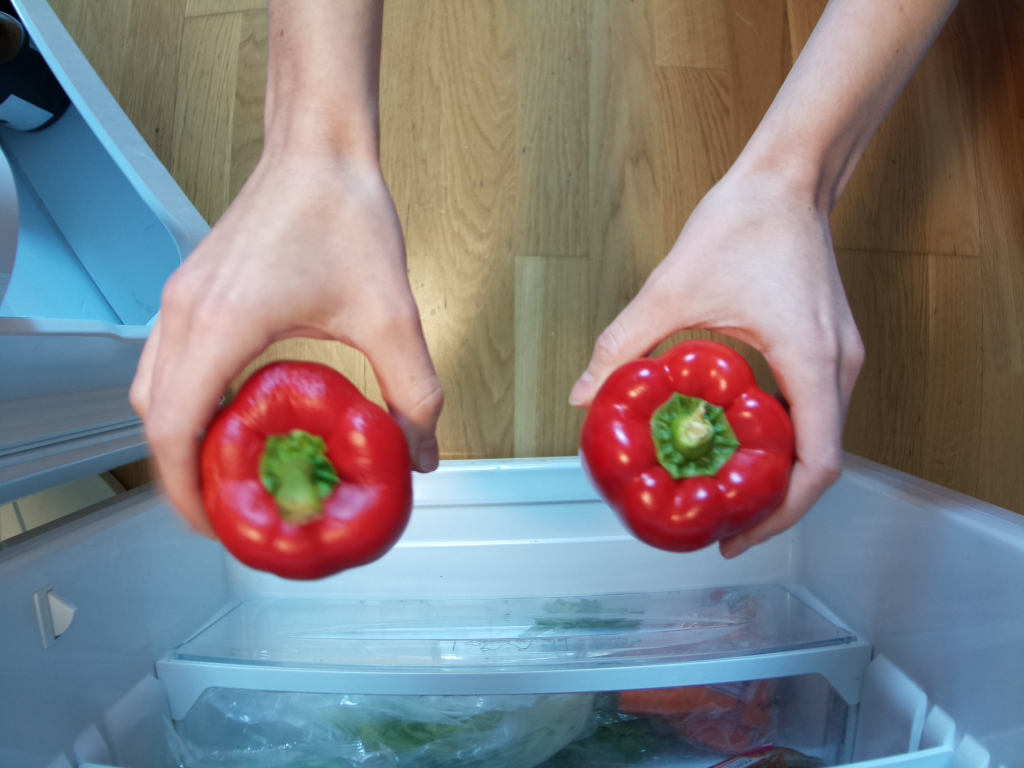pepper: (580, 341, 793, 553)
pepper-bad: (196, 356, 413, 586)
